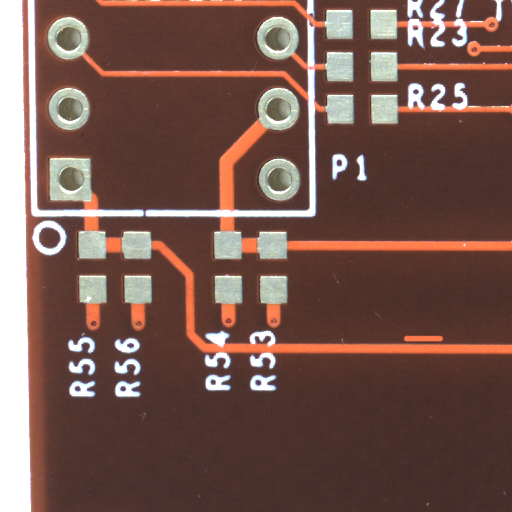Spurious_copper: (422, 338, 466, 347)
